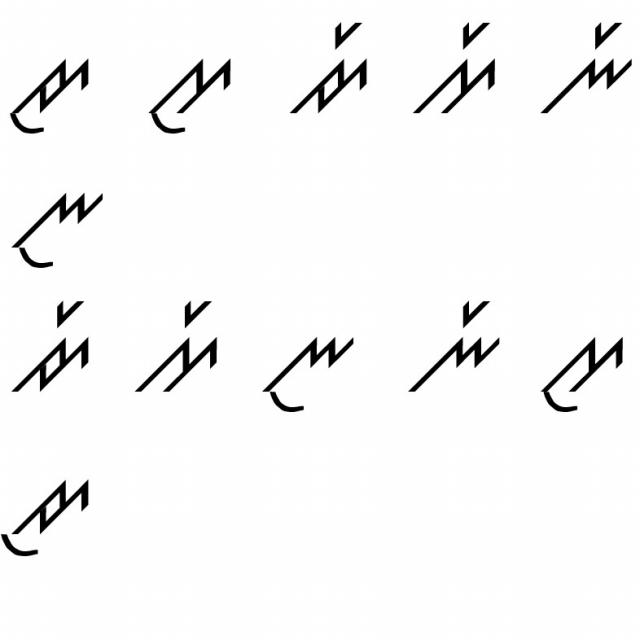jar: (272, 19, 381, 128), (7, 292, 94, 393)
jaw: (9, 48, 96, 137)
nyar: (403, 293, 507, 397), (536, 21, 636, 121)
nyaw: (252, 314, 362, 419), (5, 185, 111, 271)
sar: (131, 287, 220, 405), (412, 16, 502, 120)
saw: (530, 325, 634, 421), (1, 470, 102, 564), (145, 49, 236, 139)
